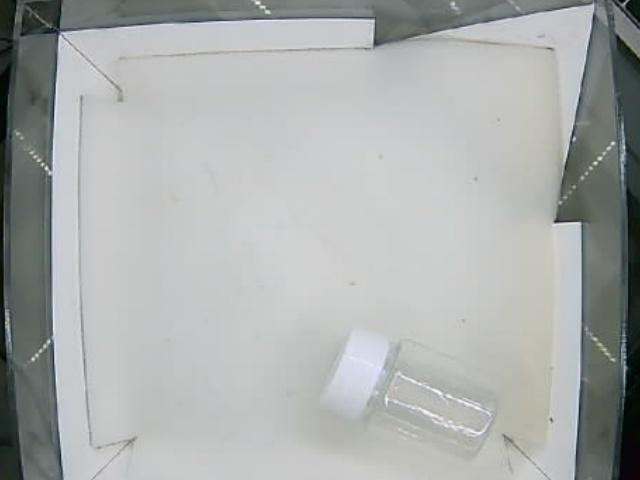Bottle: (318, 328, 497, 457)
